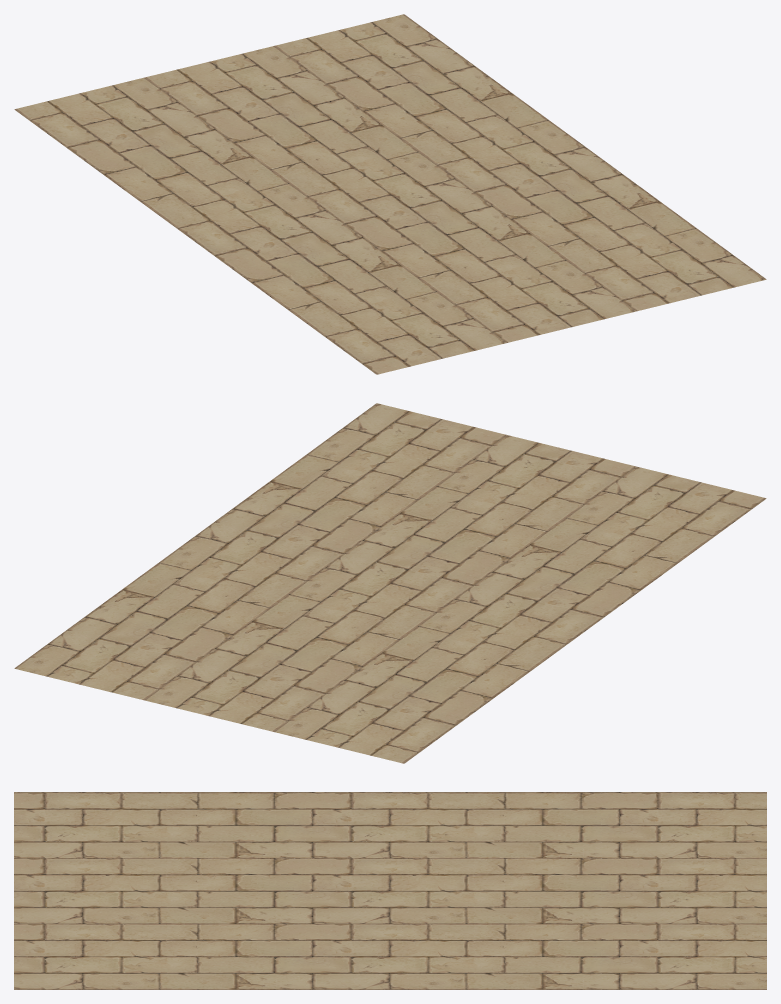
The model's file is Ground14_Build_LostTemple_002.FBX.
3 renders of one model, top to bottom at view 1: azimuth 30°, elevation 25°; view 2: azimuth 150°, elevation 25°; view 3: azimuth 270°, elevation 25°, orthographic. The views are drawn at different scales.
Parts seen in each view (by area): view 1: Ground14_Build_LostTemple_002; view 2: Ground14_Build_LostTemple_002; view 3: Ground14_Build_LostTemple_002.
Boxes of the visible parts, x1,y1,x2,y2 form: Ground14_Build_LostTemple_002: [14, 14, 766, 374]; Ground14_Build_LostTemple_002: [14, 403, 766, 763]; Ground14_Build_LostTemple_002: [14, 792, 766, 989].
Bounding box in the file's own units: 539 × 3.79e-05 × 867.
Materials: 1 (1 with a texture image).
